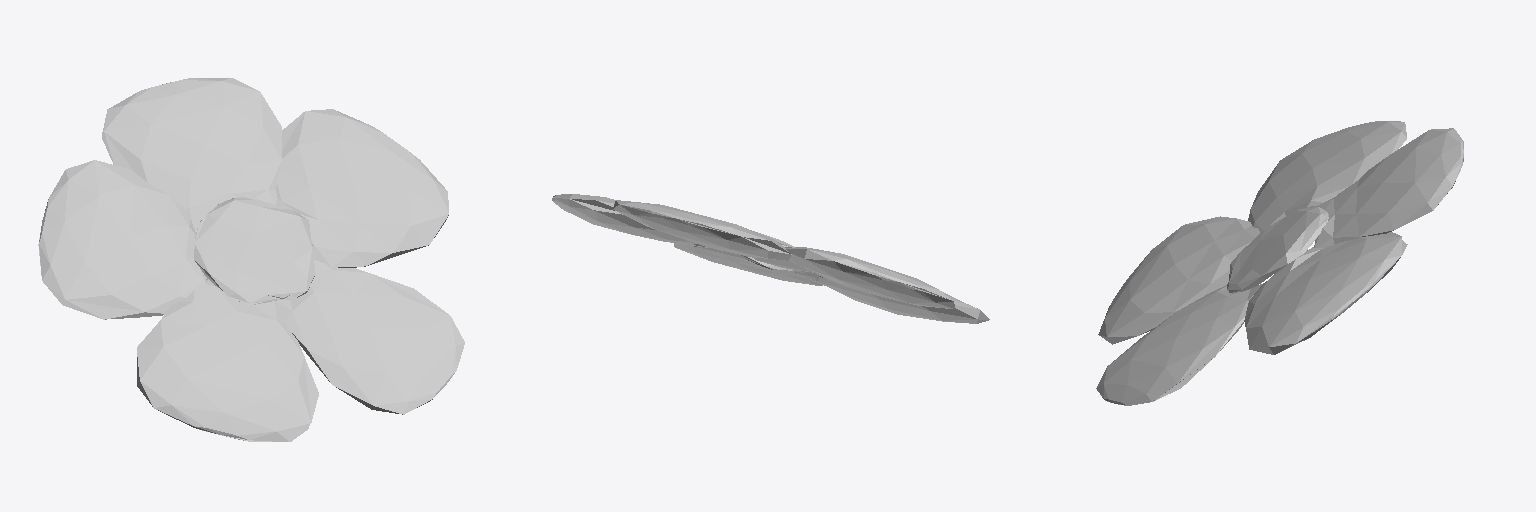
Rendered from flower.obj.
The picture shows the model from 3 angles: view 1: azimuth 30°, elevation 25°; view 2: azimuth 150°, elevation 25°; view 3: azimuth 270°, elevation 25°; orthographic projection.
Visible parts, largest first — view 1: Sphere.001; view 2: Sphere.001; view 3: Sphere.001.
Part boxes in pixels (x1,y1,x2,y2): Sphere.001: (38, 78, 464, 441); Sphere.001: (552, 194, 989, 323); Sphere.001: (1096, 121, 1463, 405).
Bounding box in the file's own units: 0.5102 × 0.2591 × 0.4065.